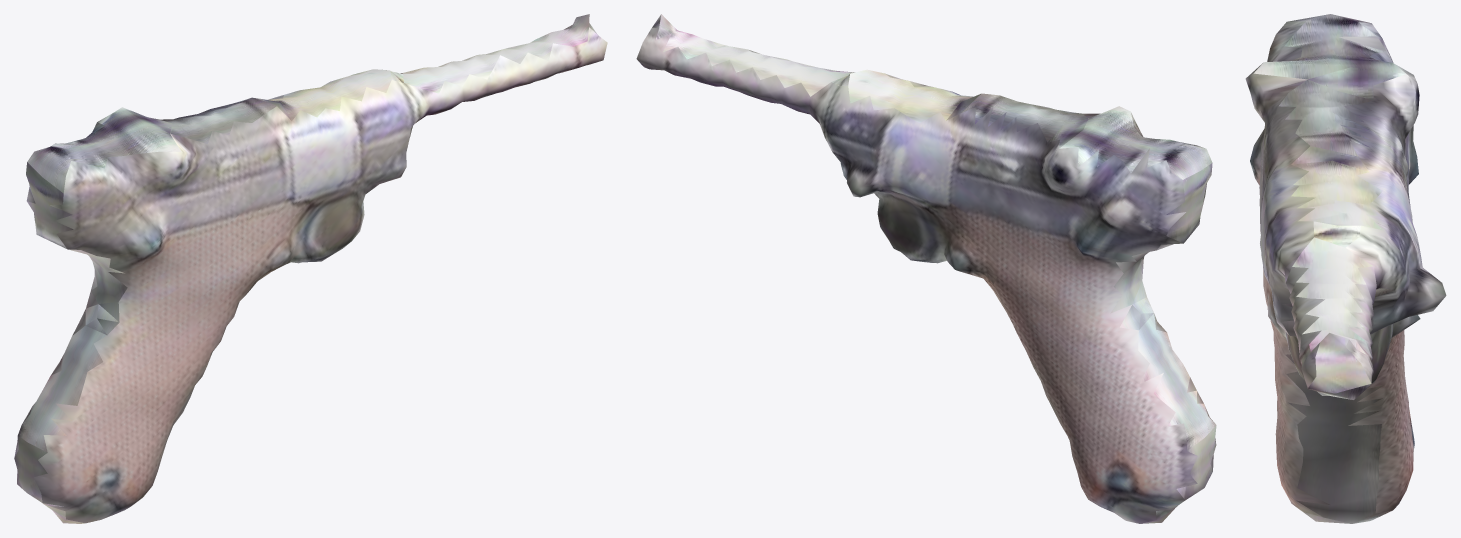
The model's file is pistol8-luger.glb.
The picture shows the model from 3 angles, left to right: view 1: azimuth 30°, elevation 25°; view 2: azimuth 150°, elevation 25°; view 3: azimuth 270°, elevation 25°; orthographic projection. The views are drawn at different scales.
Visible parts, largest first — view 1: geometry_0.033; view 2: geometry_0.033; view 3: geometry_0.033.
Boxes of the visible parts, x1,y1,x2,y2 form: geometry_0.033: (14, 14, 607, 523); geometry_0.033: (636, 14, 1216, 523); geometry_0.033: (1245, 14, 1446, 523).
Bounding box in the file's own units: 0.2452 × 0.1594 × 0.0587.
Materials: 1 (1 with a texture image).
